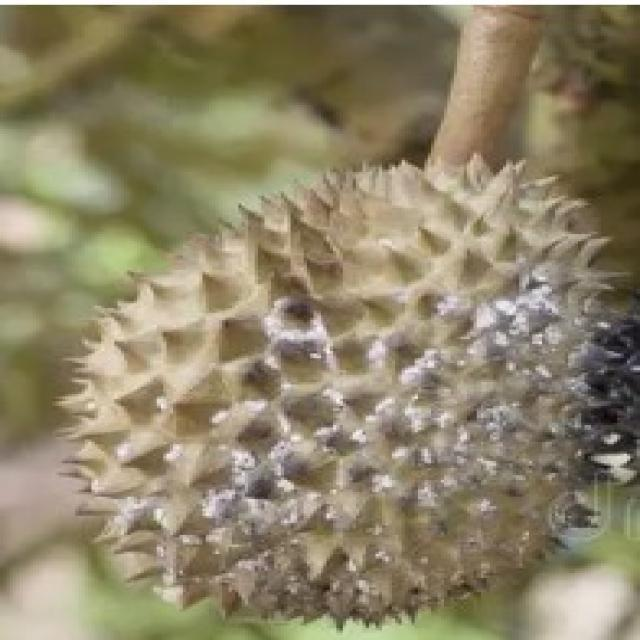defective: (44, 160, 622, 602)
